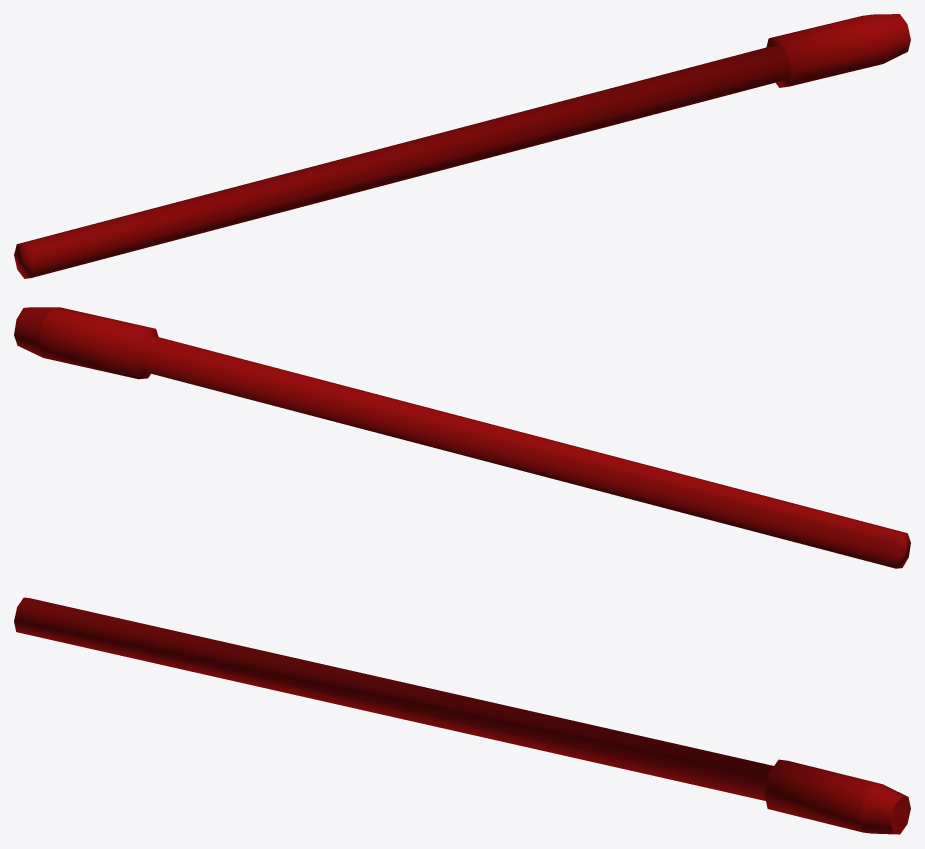
The model's file is Pen.fbx.
3 views of the same model, one above another, from view 1: azimuth 30°, elevation 25°; view 2: azimuth 150°, elevation 25°; view 3: azimuth 330°, elevation 25° (orthographic).
Visible parts, largest first — view 1: Pen; view 2: Pen; view 3: Pen.
Part boxes in pixels (<box>): Pen: <box>14,14,910,278</box>; Pen: <box>14,307,910,568</box>; Pen: <box>14,597,910,834</box>.
Bounding box in the file's own units: 13.24 × 0.8037 × 0.7352.
